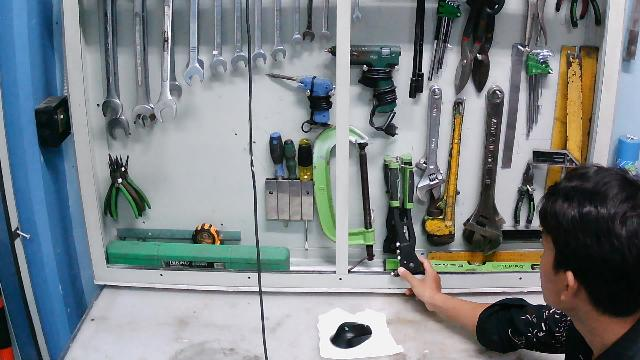tang_rivet: (384, 159, 428, 280)
